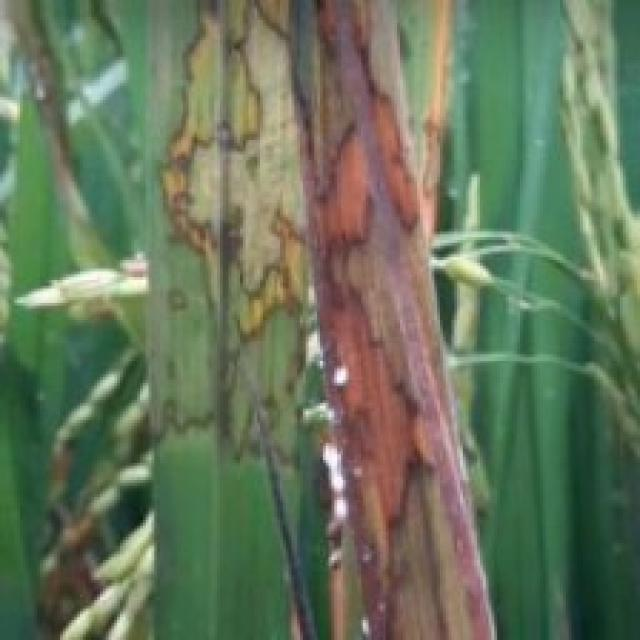Bacterial_Blight: (157, 0, 320, 354), (308, 282, 447, 627), (364, 82, 437, 246), (304, 121, 380, 268), (316, 0, 376, 76)
